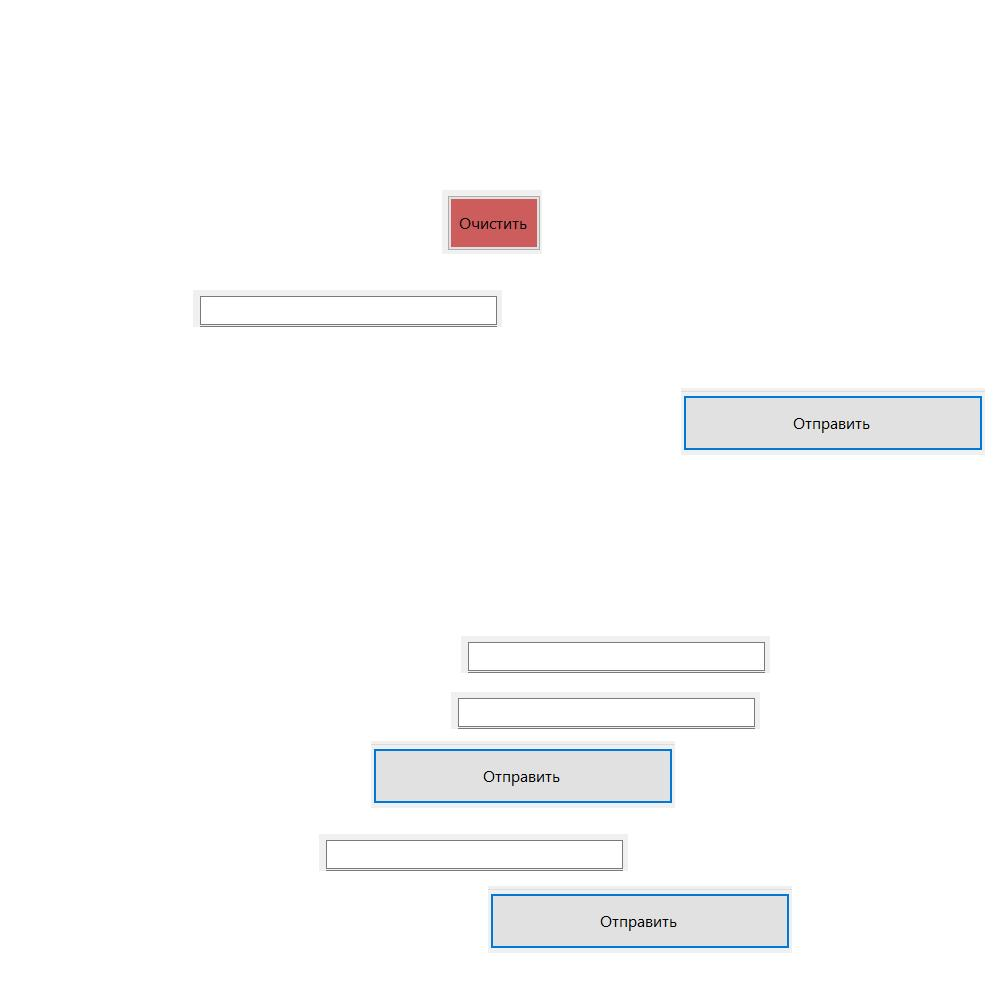Button: (681, 388, 985, 455), (371, 741, 675, 808), (488, 886, 792, 953), (442, 190, 542, 254)
EditText-: (193, 290, 502, 327), (461, 636, 770, 673), (451, 692, 760, 729), (319, 834, 628, 871)
